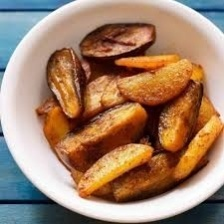sabzi: (30, 19, 223, 204)
